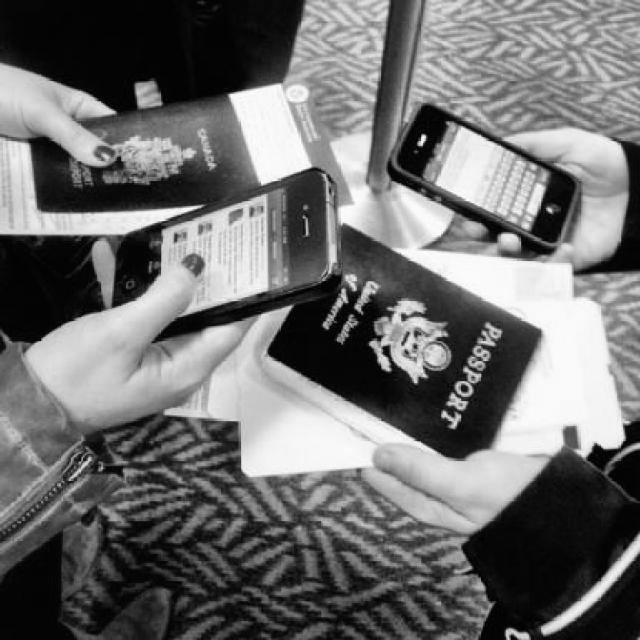fake: (111, 166, 344, 342), (378, 99, 600, 252)
